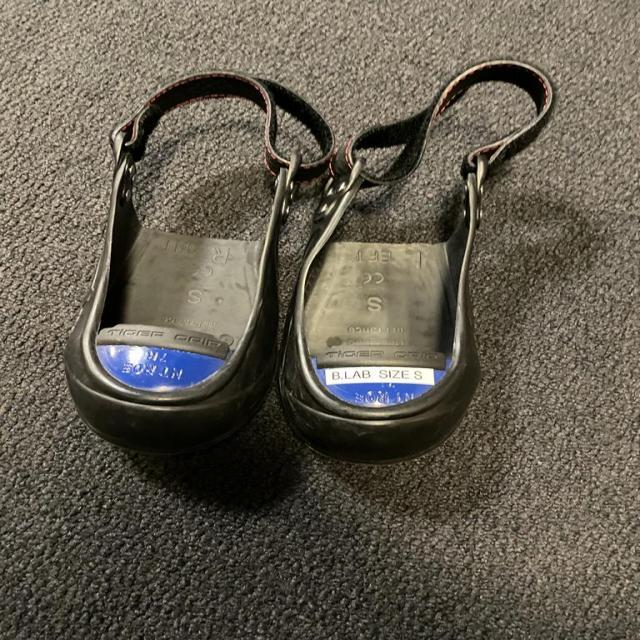shoes: (290, 51, 568, 462), (69, 55, 342, 472)
